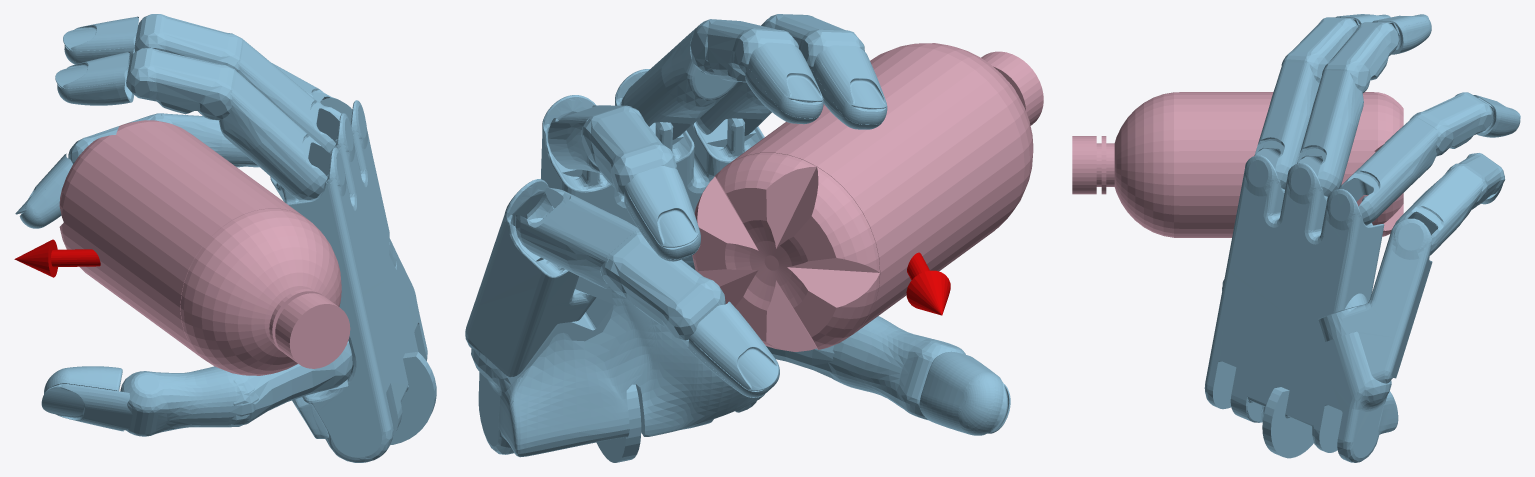
3 views of the same model, side by side, from view 1: azimuth 30°, elevation 25°; view 2: azimuth 150°, elevation 25°; view 3: azimuth 270°, elevation 25° (orthographic). The views are drawn at different scales.
Visible parts, largest first — view 1: world, water_bottle.stl; view 2: world, water_bottle.stl; view 3: world, water_bottle.stl.
Boxes of the visible parts, box(x1,y1,x2,y2) form: world: box(14, 14, 436, 462); water_bottle.stl: box(59, 120, 350, 375); world: box(465, 14, 1010, 462); water_bottle.stl: box(692, 43, 1043, 351); world: box(1204, 14, 1520, 462); water_bottle.stl: box(1072, 92, 1403, 237).
Size of the model in its own units: 0.1635 by 0.1643 by 0.1848.
